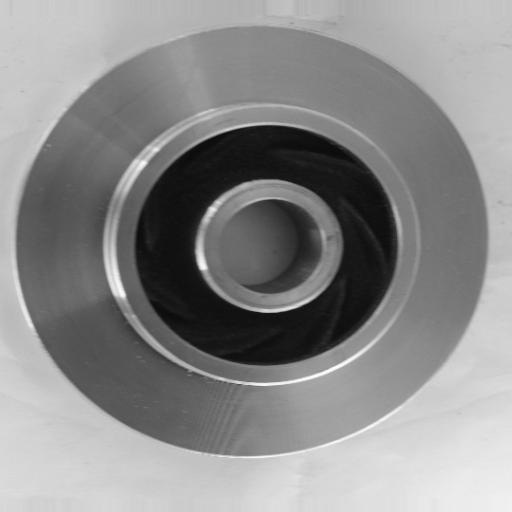polished_casting: (17, 26, 489, 460)
